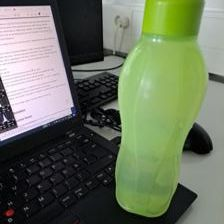bottle: (106, 1, 211, 216)
